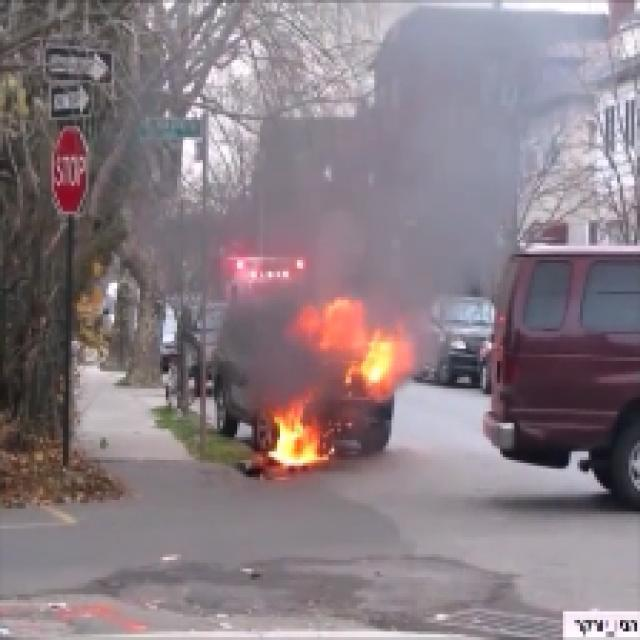Fire: (269, 412, 323, 468)
Smoke: (346, 98, 494, 279), (228, 287, 296, 397)
